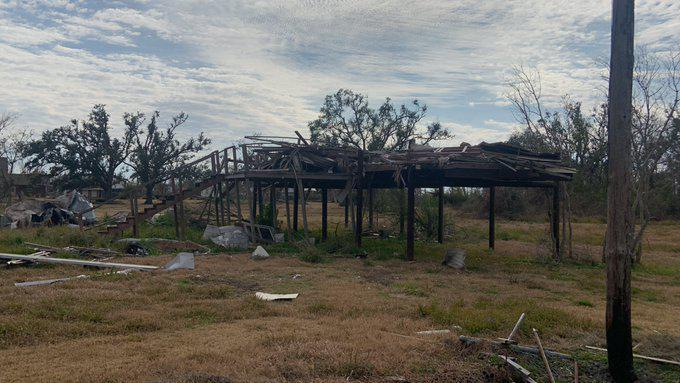destroyed: (127, 89, 581, 255)
